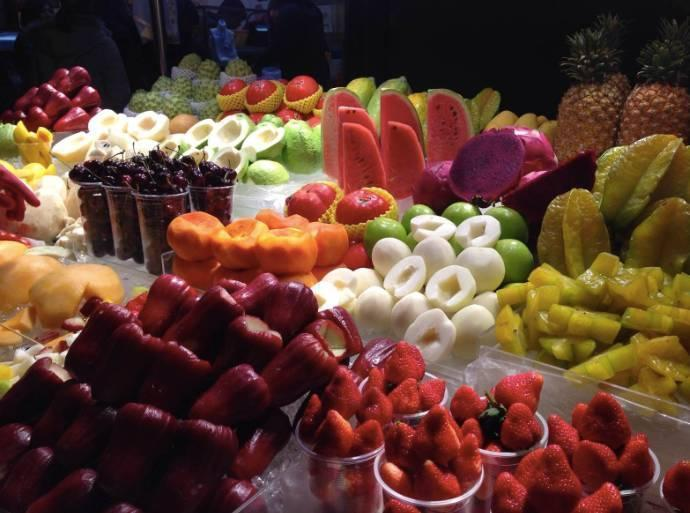apple: (4, 63, 103, 129), (282, 73, 321, 113)
